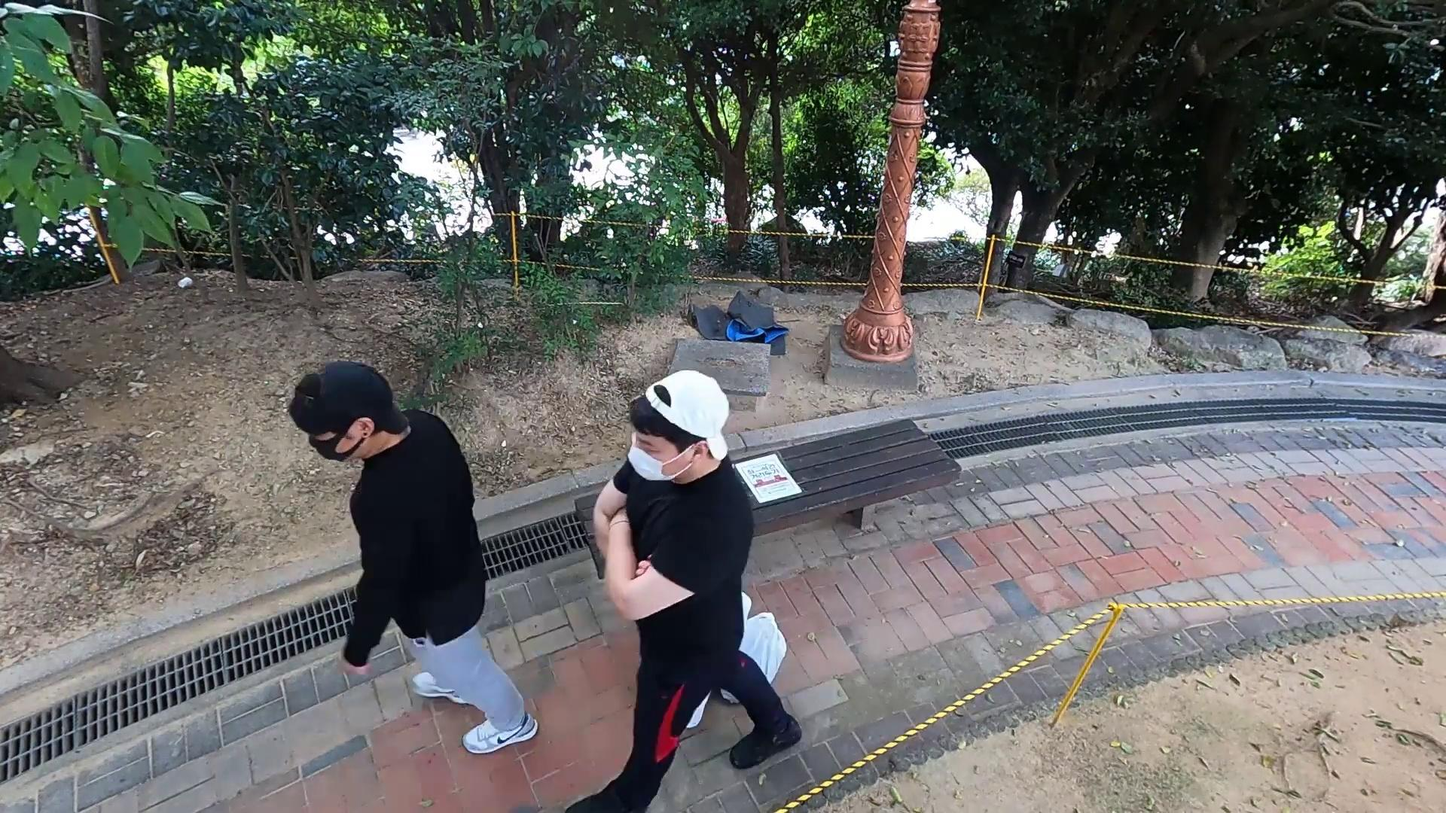person: (282, 355, 545, 762), (566, 368, 806, 813)
trash: (684, 287, 791, 358), (712, 612, 789, 704)
